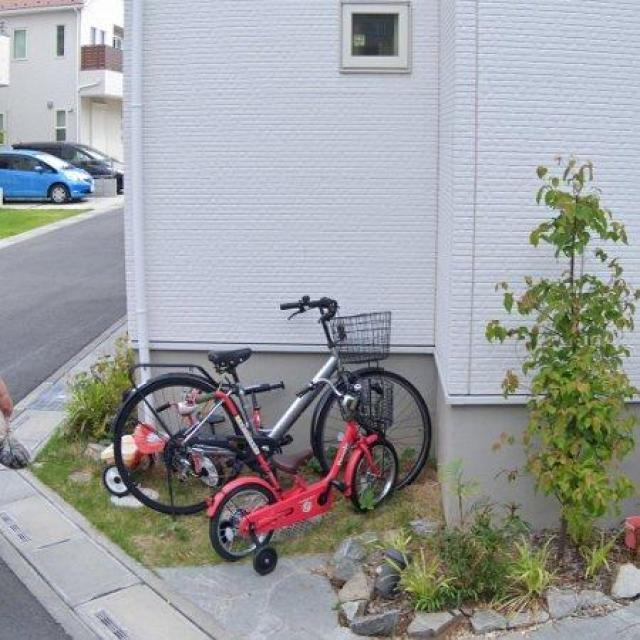bicycle: (111, 299, 432, 561)
